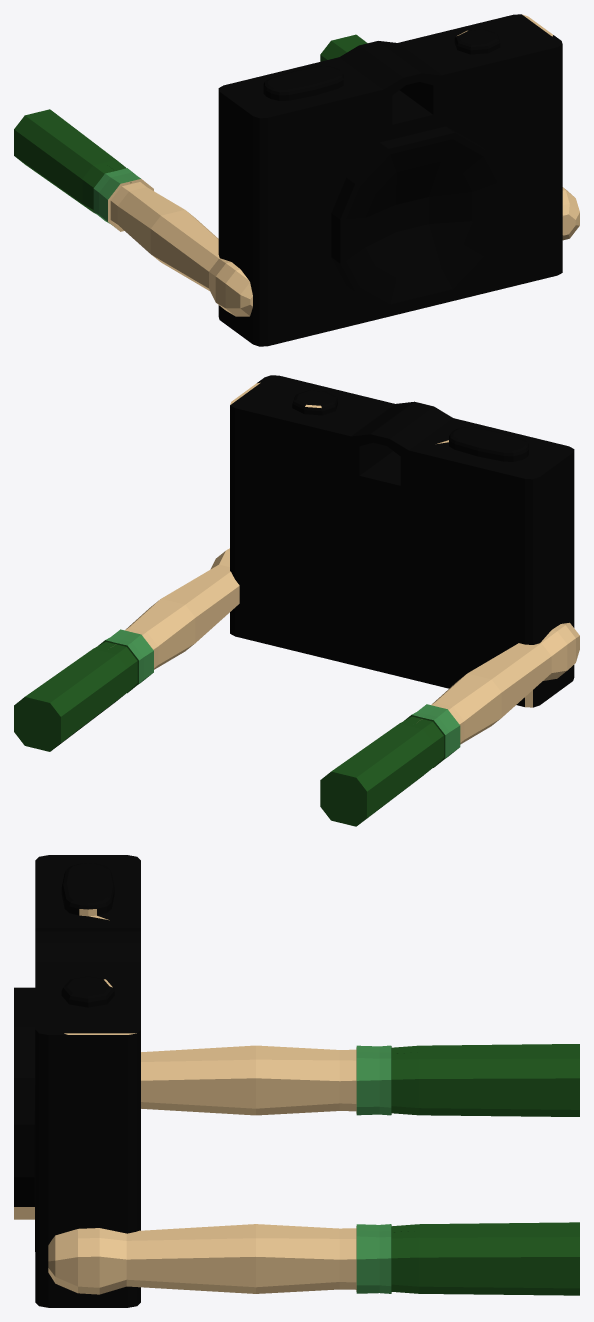
The model's file is arms.fbx.
3 renders of one model, top to bottom at view 1: azimuth 30°, elevation 25°; view 2: azimuth 150°, elevation 25°; view 3: azimuth 270°, elevation 25°, orthographic. The views are drawn at different scales.
Visible parts, largest first — view 1: Camera; view 2: Camera; view 3: Camera.
Part boxes in pixels (left/top/right/bottom): Camera: left=14, top=14, right=579, bottom=346; Camera: left=14, top=375, right=579, bottom=826; Camera: left=14, top=855, right=579, bottom=1307.
Size of the model in its own units: 229 by 147 by 266.
